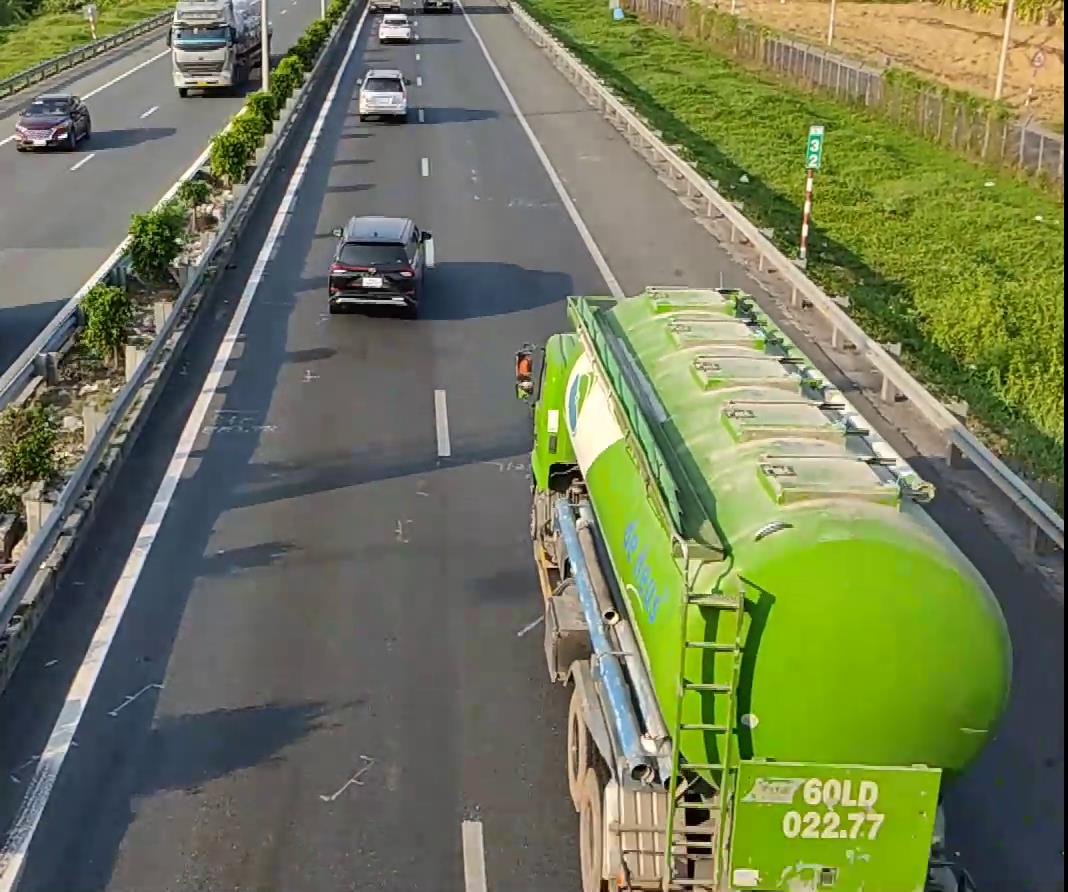car: (326, 214, 433, 314), (13, 91, 91, 150)
container: (525, 283, 1013, 892)
